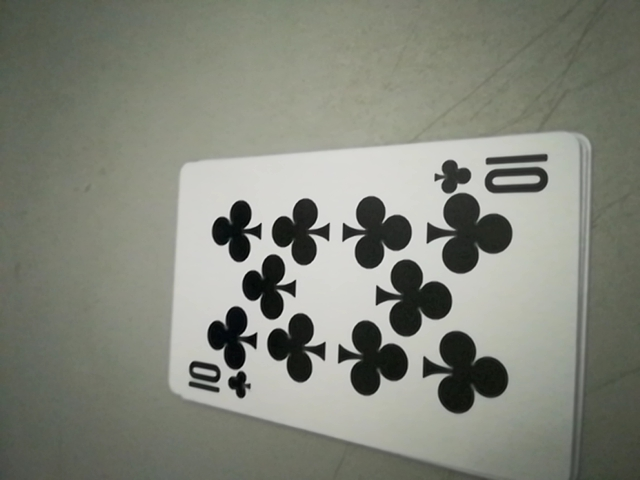mh 10: (434, 148, 558, 198), (179, 360, 255, 404)
